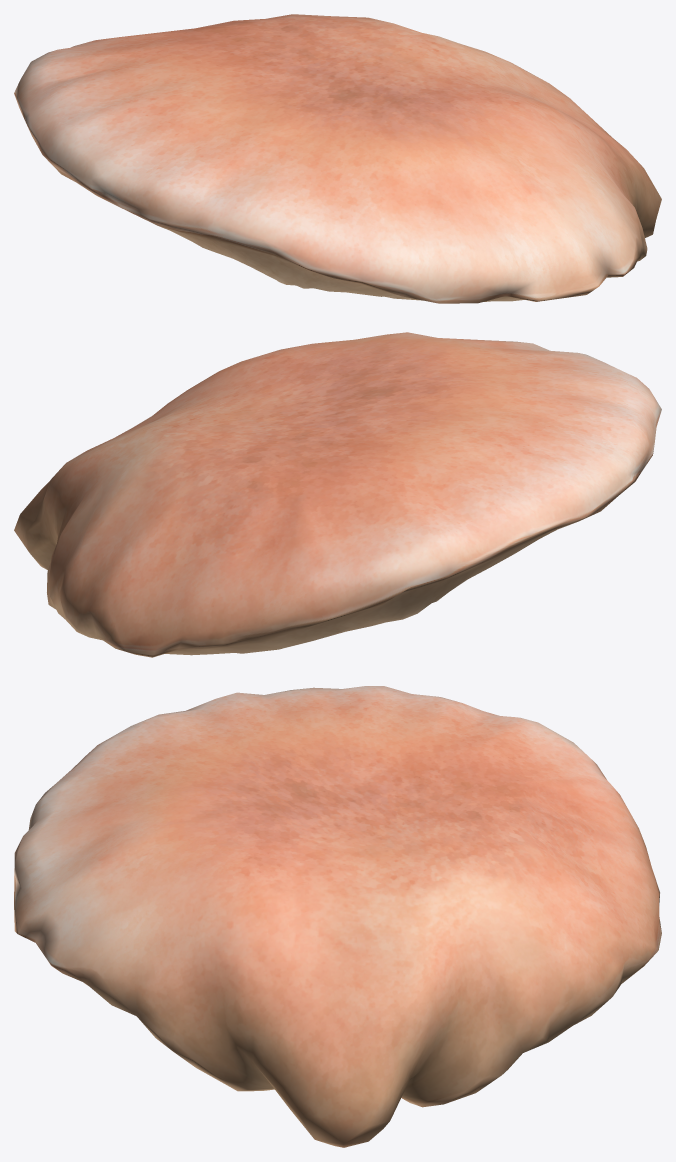
The model's file is 04_Musroom.fbx.
3 views of the same model, one above another, from view 1: azimuth 30°, elevation 25°; view 2: azimuth 150°, elevation 25°; view 3: azimuth 270°, elevation 25° (orthographic). The views are drawn at different scales.
Parts seen in each view (by area): view 1: tripo_node_bdf08d2c; view 2: tripo_node_bdf08d2c; view 3: tripo_node_bdf08d2c.
Part boxes in pixels (left/top/right/bottom): tripo_node_bdf08d2c: left=14, top=14, right=661, bottom=303; tripo_node_bdf08d2c: left=14, top=332, right=661, bottom=657; tripo_node_bdf08d2c: left=14, top=686, right=661, bottom=1147.
Size of the model in its own units: 98.86 by 100 by 39.39.
